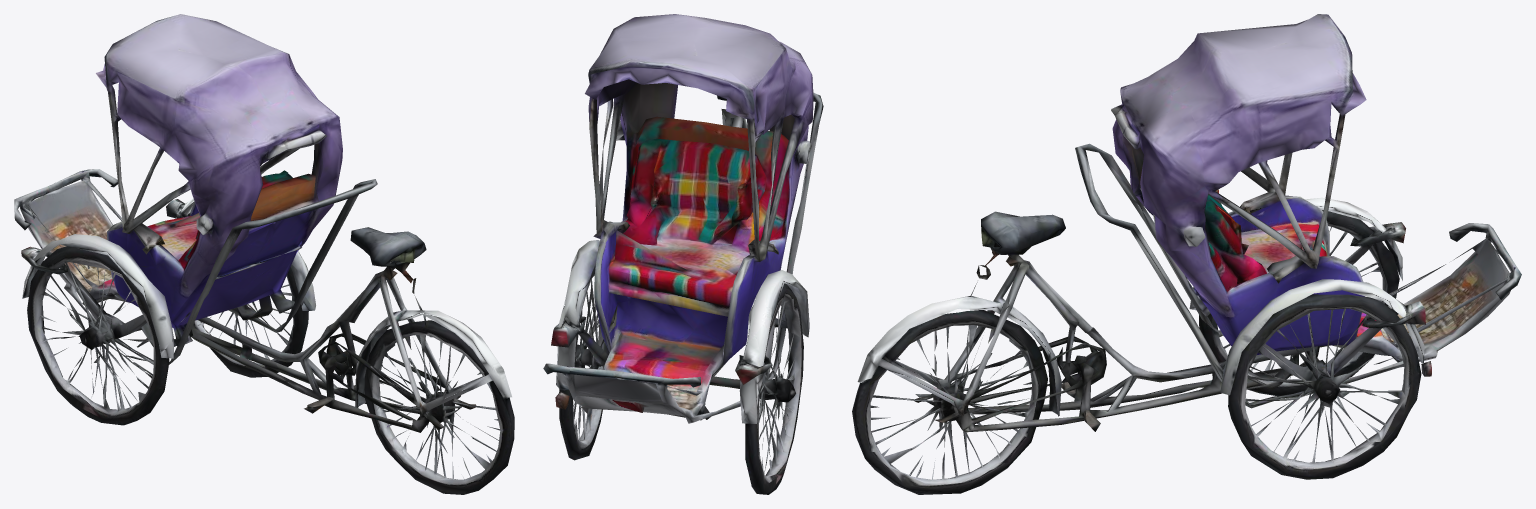
The model's file is prop_cyclo.glb.
3 renders of one model, left to right at view 1: azimuth 30°, elevation 25°; view 2: azimuth 150°, elevation 25°; view 3: azimuth 270°, elevation 25°, orthographic. The views are drawn at different scales.
Parts seen in each view (by area): view 1: tripo_node_eb430c53-1acf-4568-9dee-00b678d6b66d; view 2: tripo_node_eb430c53-1acf-4568-9dee-00b678d6b66d; view 3: tripo_node_eb430c53-1acf-4568-9dee-00b678d6b66d.
Boxes of the visible parts, box(x1,y1,x2,y2) form: tripo_node_eb430c53-1acf-4568-9dee-00b678d6b66d: box(14, 14, 514, 494); tripo_node_eb430c53-1acf-4568-9dee-00b678d6b66d: box(543, 14, 823, 494); tripo_node_eb430c53-1acf-4568-9dee-00b678d6b66d: box(852, 14, 1521, 494).
Bounding box in the file's own units: 0.4716 × 0.6658 × 1.
1 material, 1 textured.
